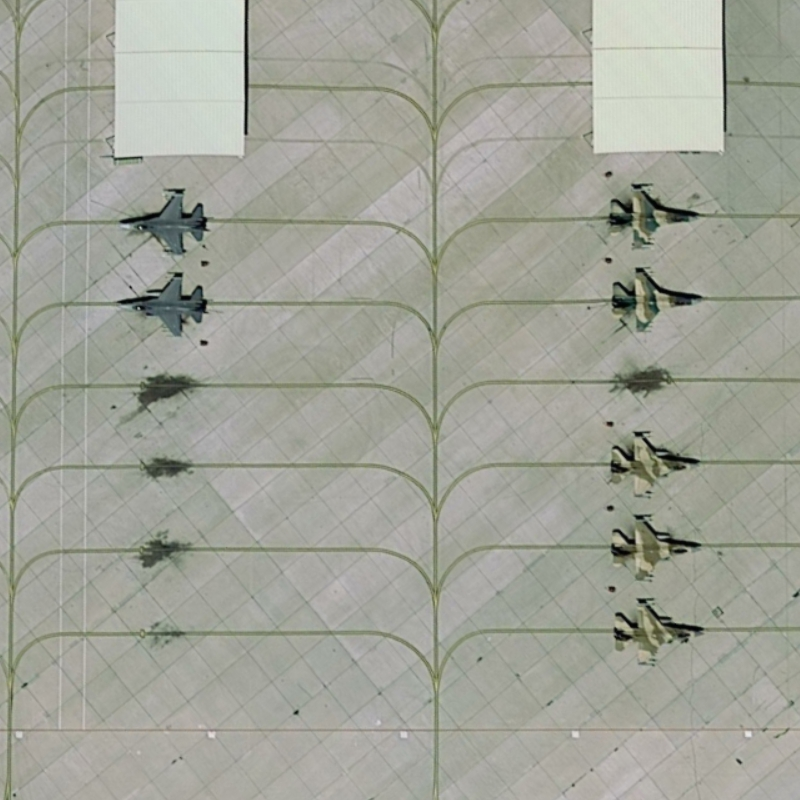A5: (115, 182, 220, 261), (108, 267, 218, 342), (598, 424, 704, 501), (598, 178, 705, 253), (603, 509, 704, 588), (608, 595, 709, 674), (605, 260, 706, 336)
